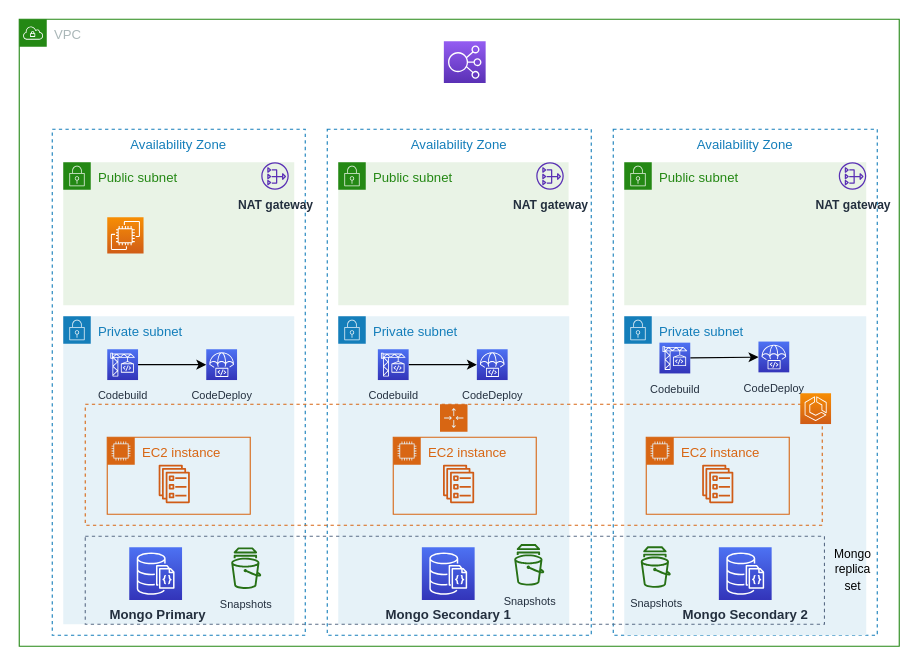
The diagram is 919 pixels wide and 666 high, and some of its shapes have lost their labels. Each missing label, with the centre of its shape:
"Application Load Balancer" goes at point (464, 61).
"Bastion Host" goes at point (125, 235).
"ECS" goes at point (815, 408).
